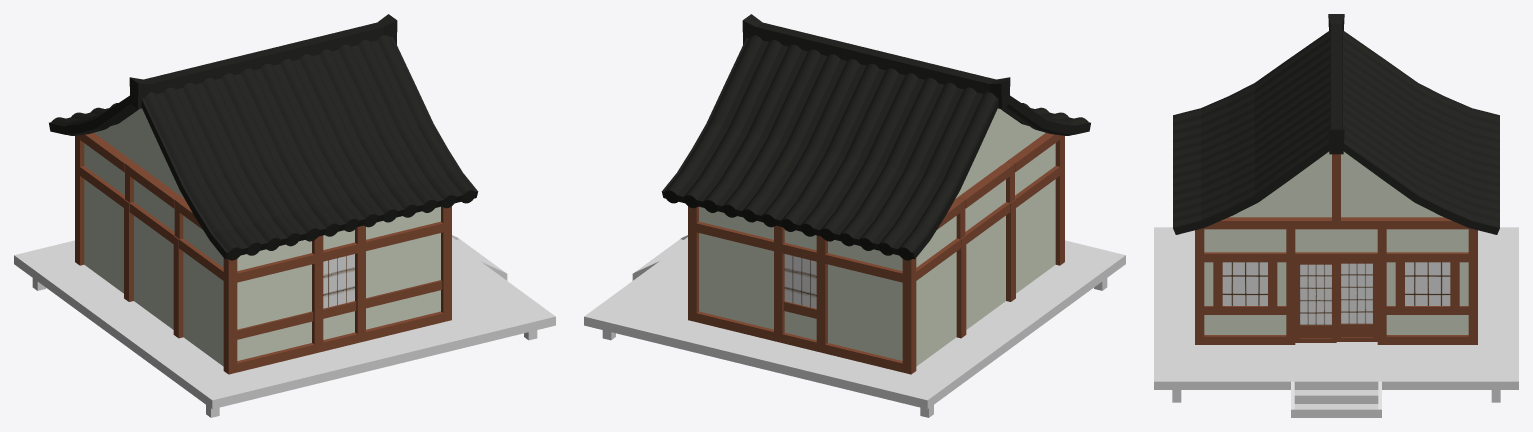
The model's file is warehouse.fbx.
The picture shows the model from 3 angles, left to right: view 1: azimuth 30°, elevation 25°; view 2: azimuth 150°, elevation 25°; view 3: azimuth 270°, elevation 25°; orthographic projection. The views are drawn at different scales.
Parts seen in each view (by area): view 1: Plane.006, Cube.050, Cube.057, Cube.111, Cube, Cube.070, Cube.075, Cube.076, Cube.088, Cube.087, Cube.086, Plane (+29 smaller); view 2: Plane.006, Cube.059, Cube.065, Cube.111, Cube.061, Cube.076, Cube.075, Cube.070, Cube.100, Cube.101, Cube.102, Plane (+27 smaller); view 3: Plane.006, Plane, Cube.009, Cube.035, Cube, Cube.061, Cube.040, Cube.064, Cube.042, Cube.043, Cube.124, Cube.045 (+30 smaller).
Boxes of the visible parts, x1,y1,x2,y2 form: Plane.006: (49,35,478,260); Cube.050: (366,233,440,329); Cube.057: (237,264,311,360); Cube.111: (129,14,397,109); Cube: (448,280,555,346); Cube.070: (183,252,223,366); Cube.075: (134,215,173,329); Cube.076: (84,179,123,293); Cube.088: (187,363,298,409); Cube.087: (276,342,383,388); Cube.086: (362,321,469,367); Plane: (94,108,184,198); Plane.006: (661,35,1090,260); Cube.059: (699,233,773,329); Cube.065: (828,264,902,360); Cube.111: (742,14,1010,109); Cube.061: (584,280,691,346); Cube.076: (916,252,956,366); Cube.075: (966,215,1005,329); Cube.070: (1016,179,1055,293); Cube.100: (841,363,952,409); Cube.101: (756,342,863,388); Cube.102: (670,321,777,367); Plane: (955,108,1045,198); Plane.006: (1173,30,1499,234); Plane: (1229,151,1443,217); Cube.009: (1204,262,1286,334); Cube.035: (1386,262,1468,334); Cube: (1154,343,1245,389); Cube.061: (1427,343,1518,389); Cube.040: (1336,343,1427,389); Cube.064: (1245,343,1336,389); Cube.042: (1295,262,1336,342); Cube.043: (1336,262,1377,341); Cube.124: (1291,381,1381,417); Cube.045: (1295,229,1377,252).
Bounding box in the file's own units: 860 × 599 × 800.
